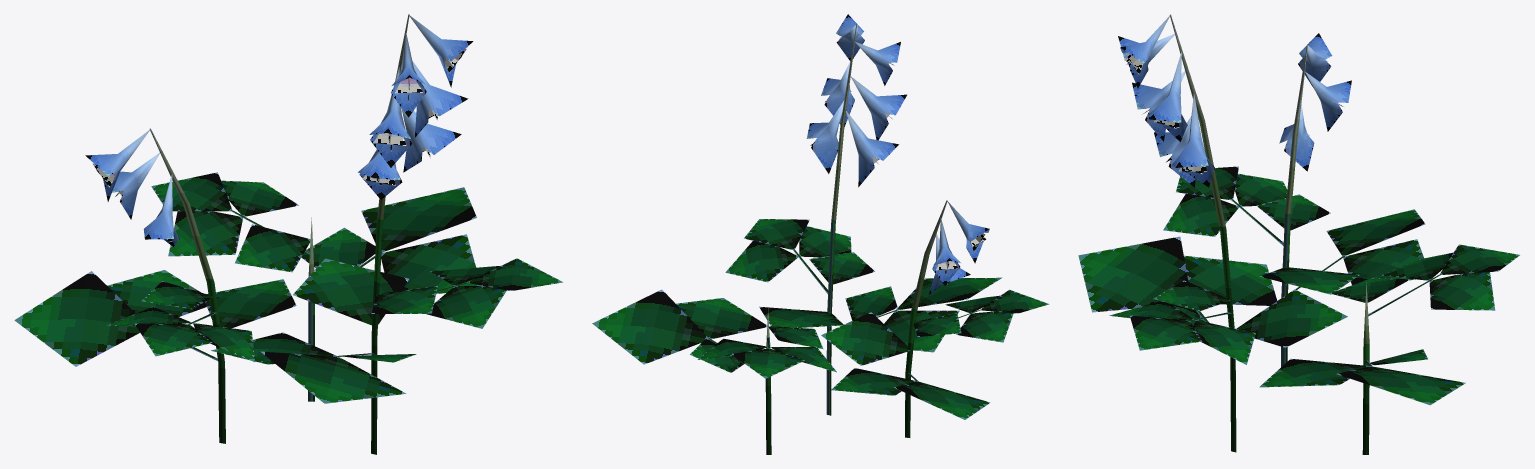
Rendered from plants_gardenflower03.gltf.
3 renders of one model, left to right at view 1: azimuth 30°, elevation 25°; view 2: azimuth 150°, elevation 25°; view 3: azimuth 270°, elevation 25°, orthographic. The views are drawn at different scales.
Visible parts, largest first — view 1: plants_gardenflower03; view 2: plants_gardenflower03; view 3: plants_gardenflower03.
Part boxes in pixels (x1,y1,x2,y2): plants_gardenflower03: (14,14,562,454); plants_gardenflower03: (592,14,1049,454); plants_gardenflower03: (1078,14,1519,454).
Size of the model in its own units: 0.9631 by 0.9324 by 0.8554.
Materials: 1 (1 with a texture image).
